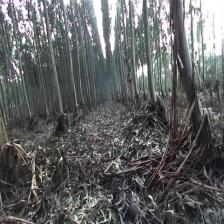trunk: (169, 2, 210, 142), (44, 8, 64, 124), (142, 4, 157, 106), (65, 25, 78, 115), (128, 5, 140, 99)
